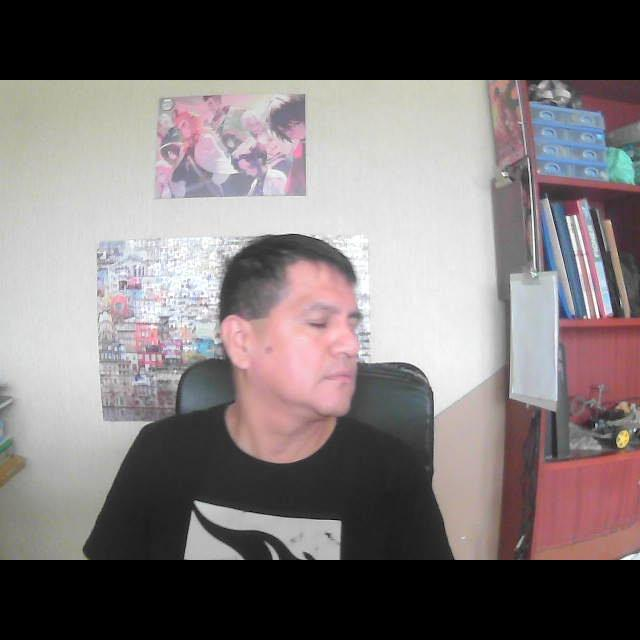cesar: (203, 224, 381, 470)
